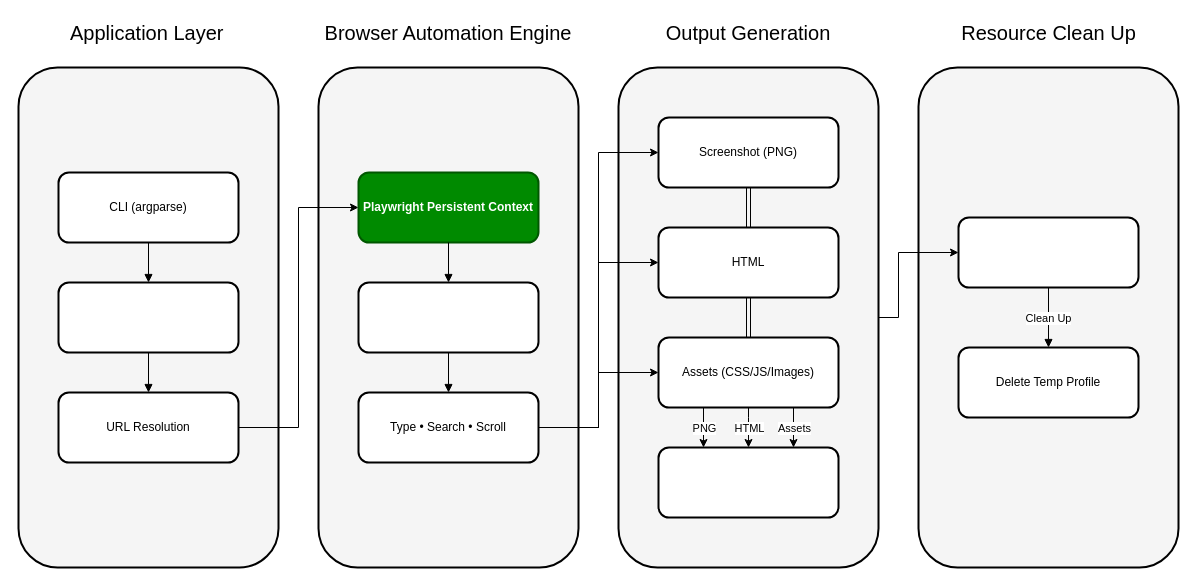
The diagram is 1196 pixels wide and 585 high, and some of its shapes have lost their labels. The centre of each missing label's shape, as x and y in pixels:
"Close Context" belongs at point 1048,252.
"Configuration Logging" belongs at point 148,317.
"Output Folder Format=(SITE_YMD_HMS)" belongs at point 748,482.
"playwright_stealth" belongs at point 448,317.
